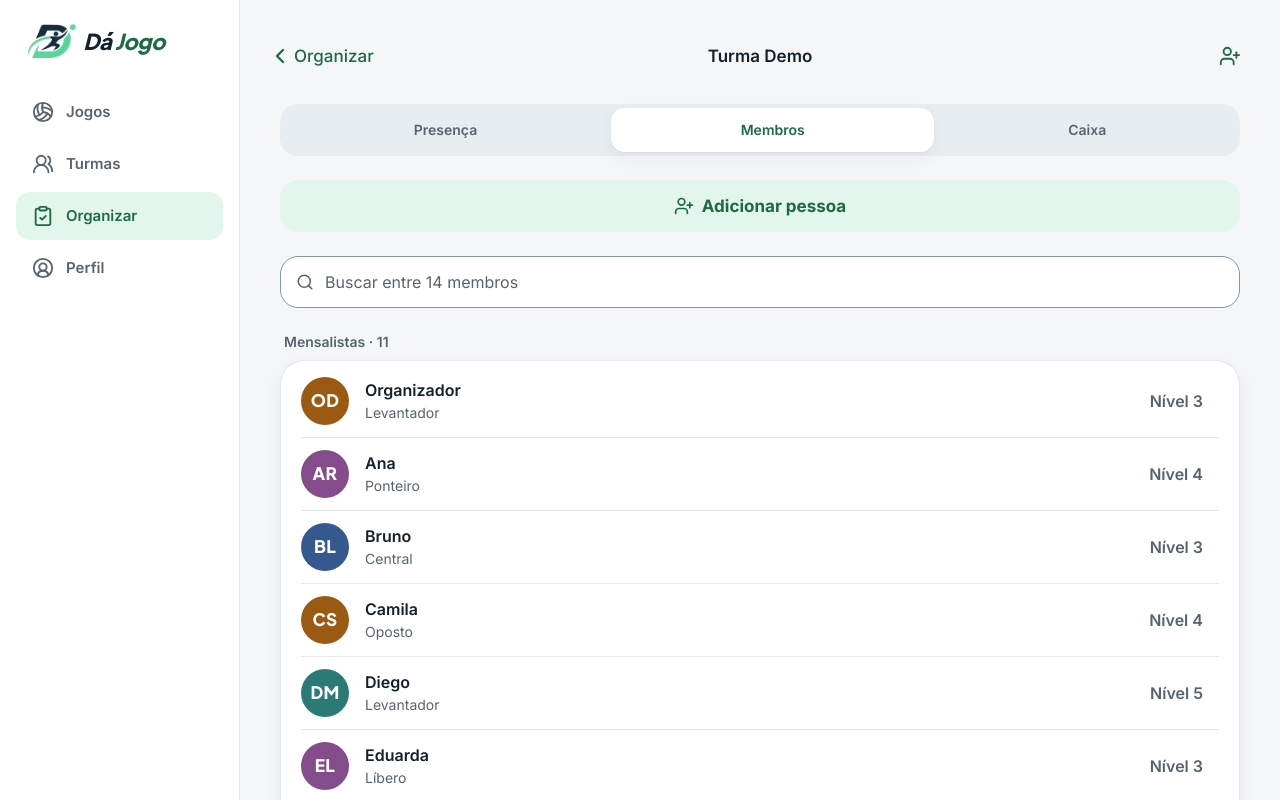
Modo demonstração › em Membros, adiciona pessoa só pelo nome: sem conta, já confirmada no jogo (mesmo cheio)
This screenshot has width=1280, height=800.
Click the button "Adicionar pessoa" at (760, 206), box x1=280 y1=180 x2=1240 y2=232
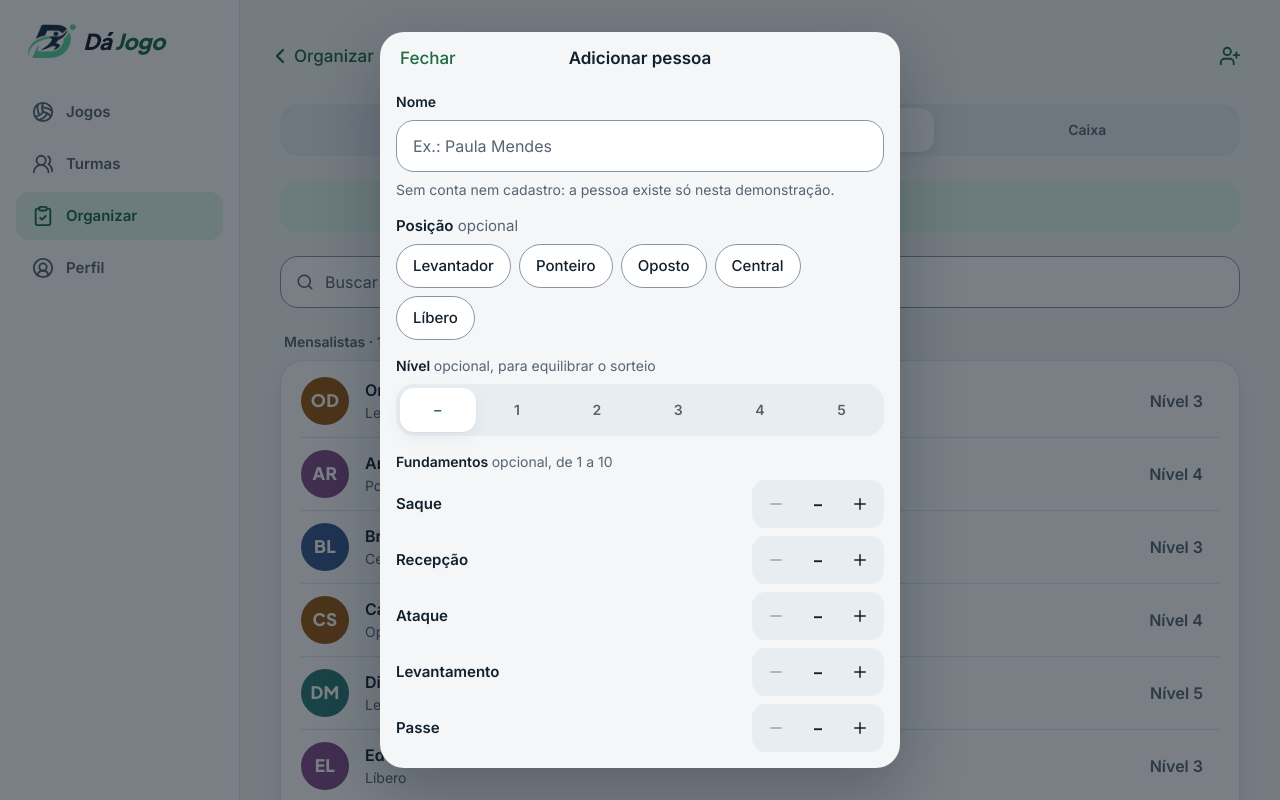
Type "Paula Mendes" into the field labelled "Nome" at (640, 146), box x1=396 y1=120 x2=884 y2=172
(page scrolled)
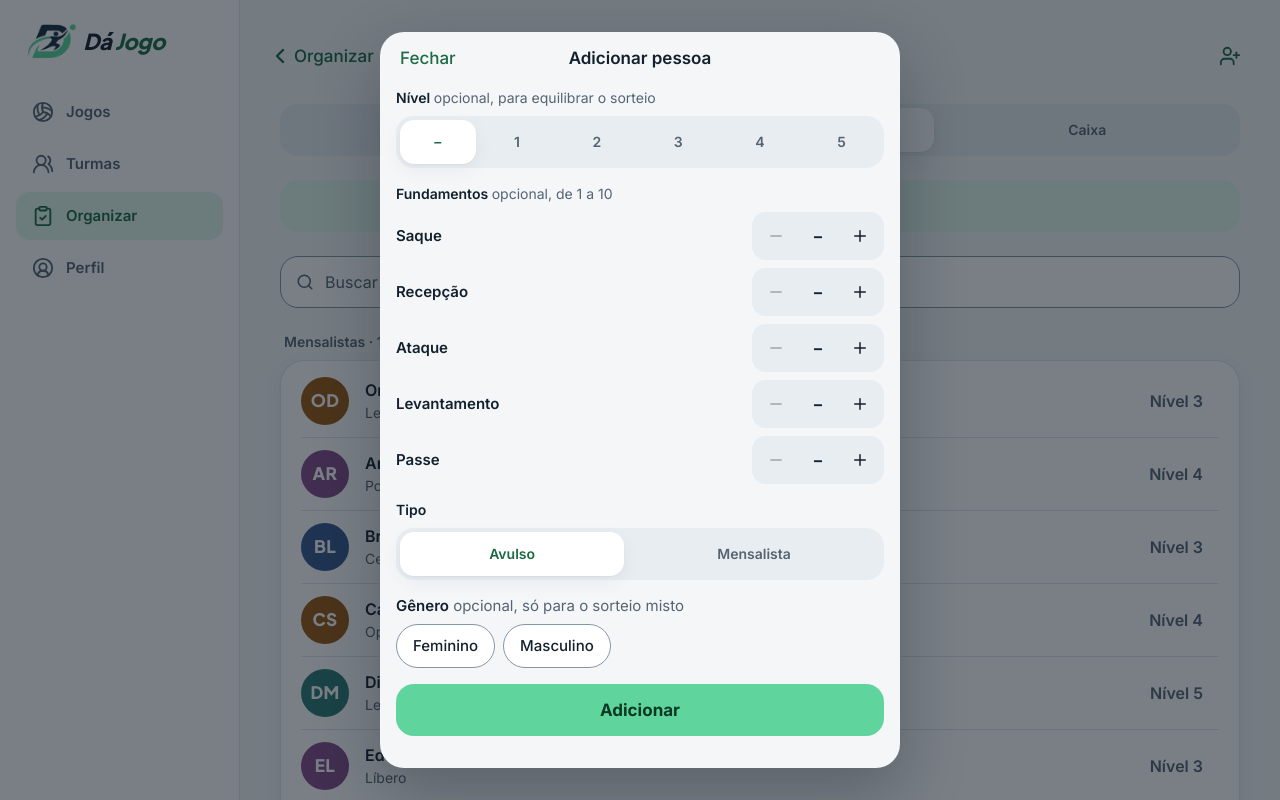
Click the button "Adicionar" at (640, 710), box x1=396 y1=684 x2=884 y2=736
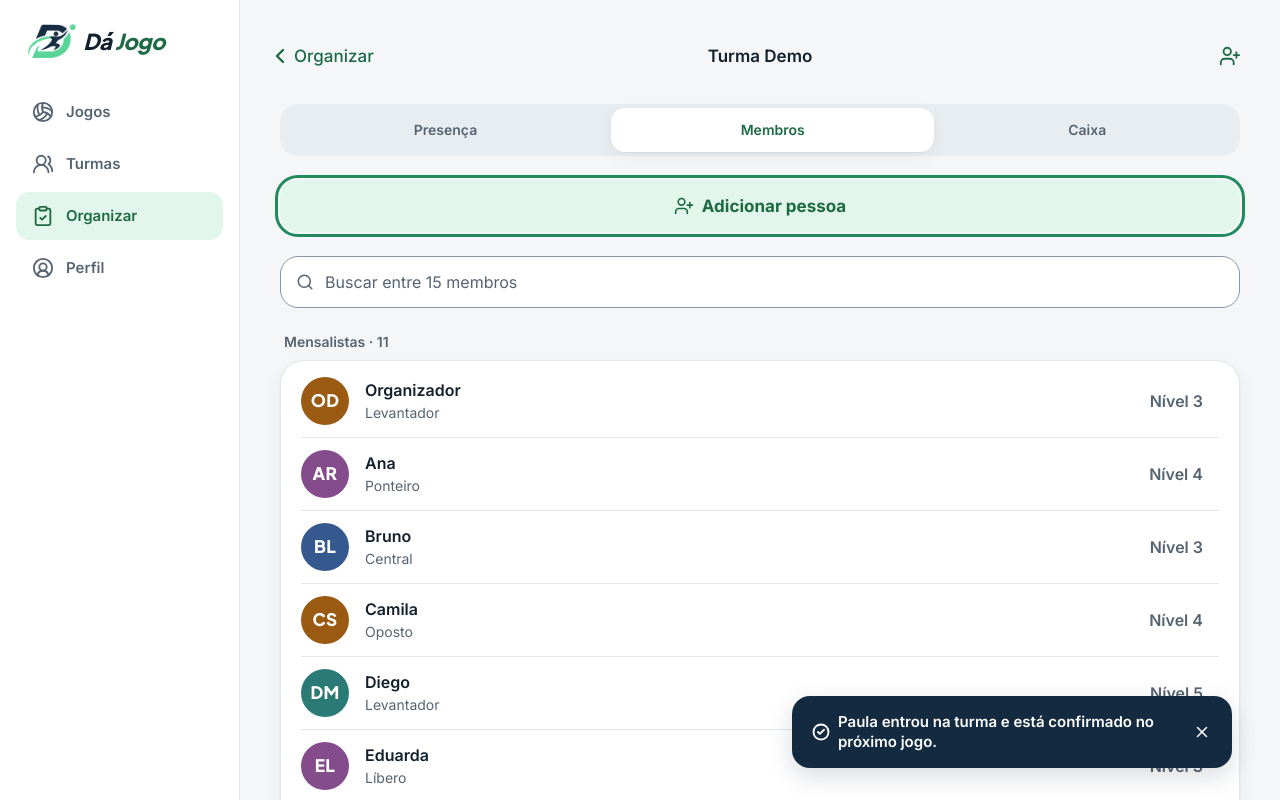
Expected: the text "Paula entrou na turma e está confirmado no próximo jogo." is shown, x1=838 y1=704 x2=1172 y2=760
